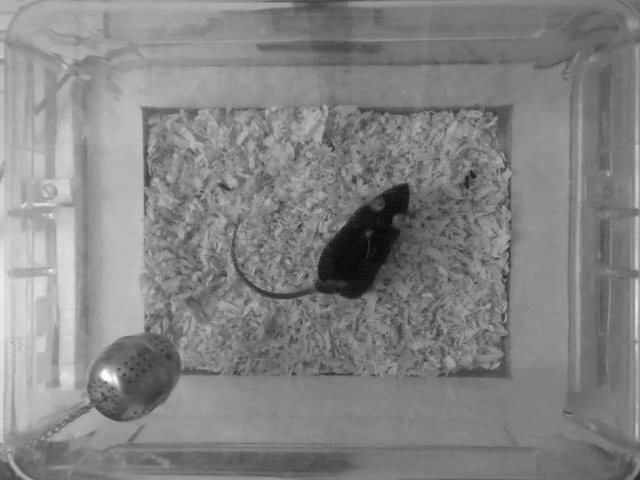mice: (227, 178, 417, 302)
